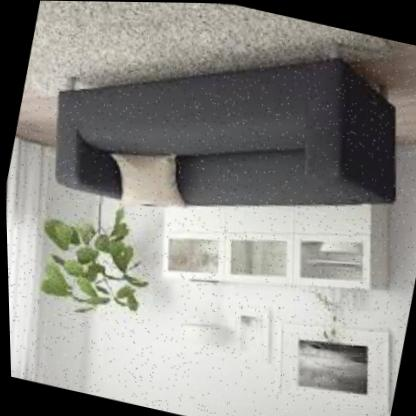Sofa: (0, 0, 416, 311)
